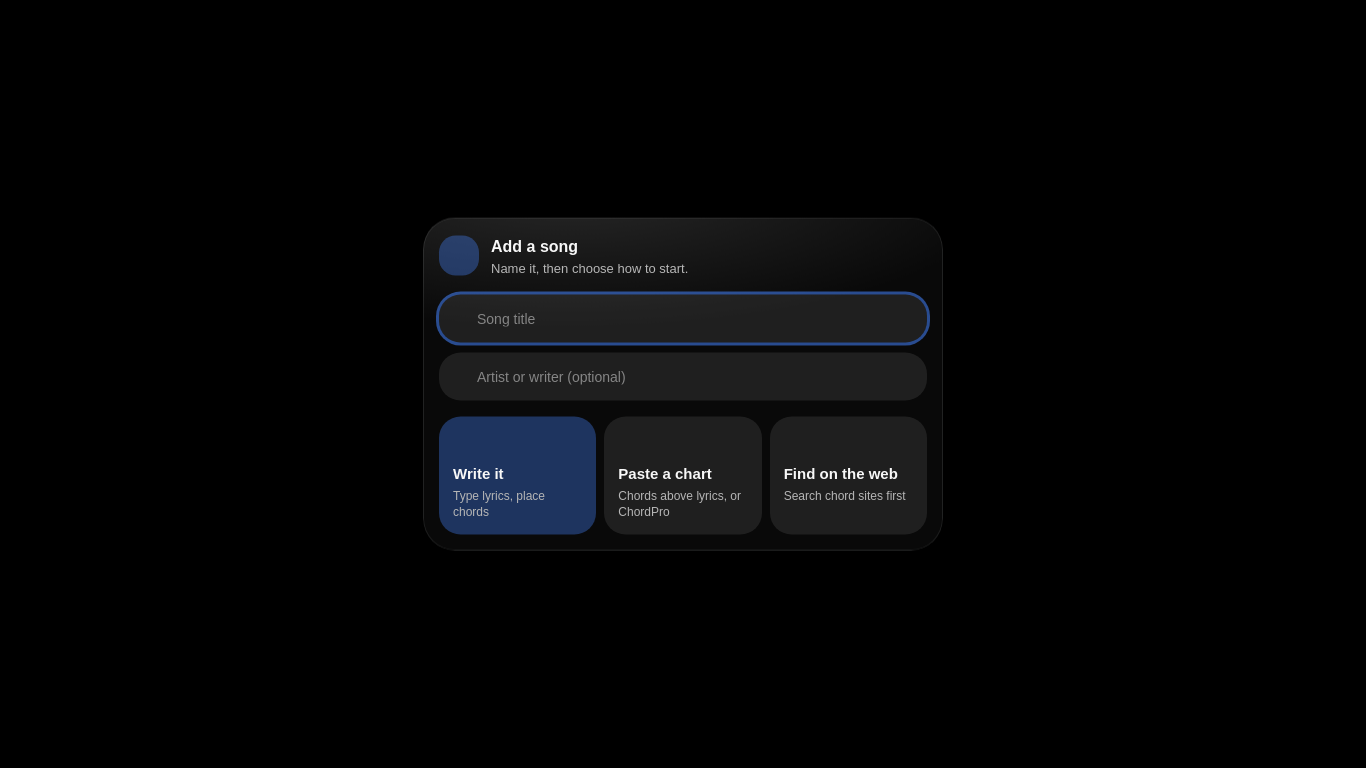
Test: AddSongDialog › asks for a title before any tile starts a song
The width and height of the screenshot is (1366, 768).
Click the button "Write it Type lyrics, place chords": (518, 475) [439,416,596,534]
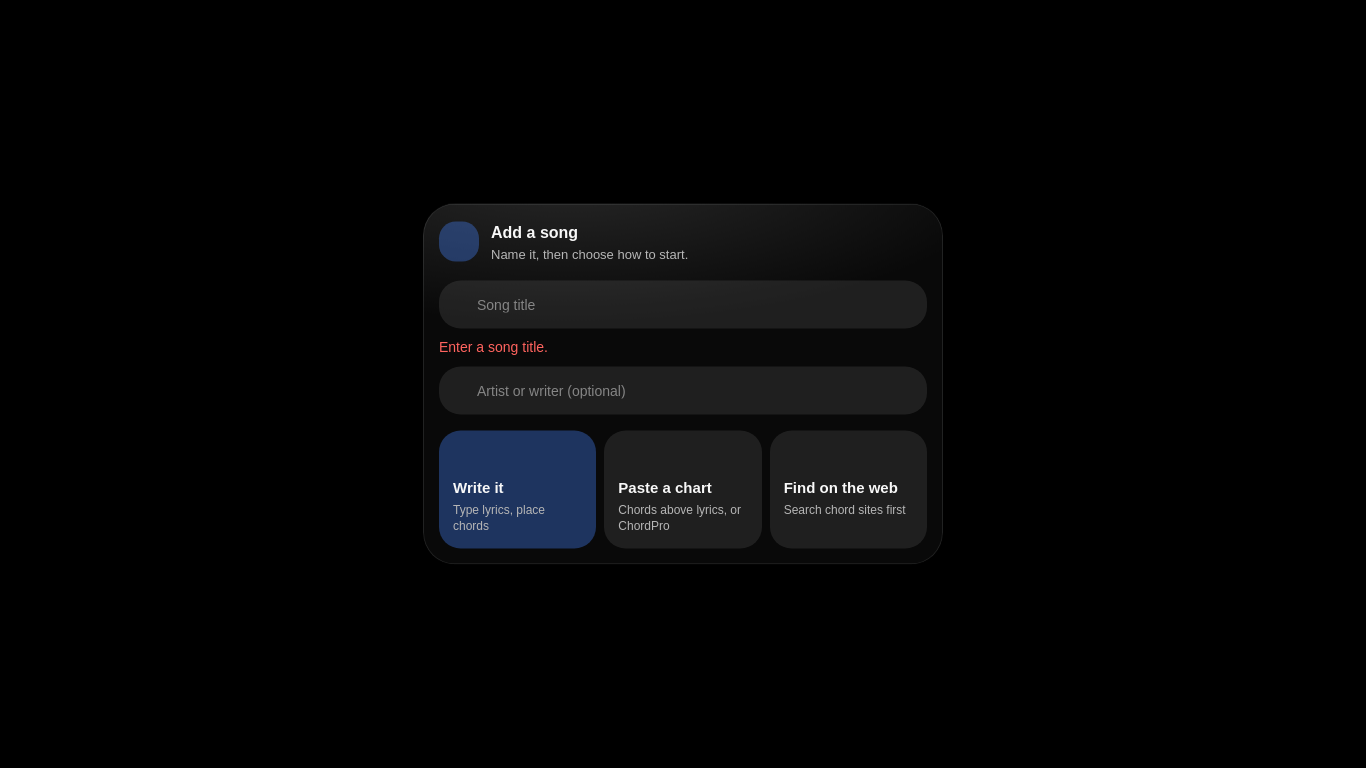
Check: the text "Enter a song title." is shown, box [439,338,548,354]
